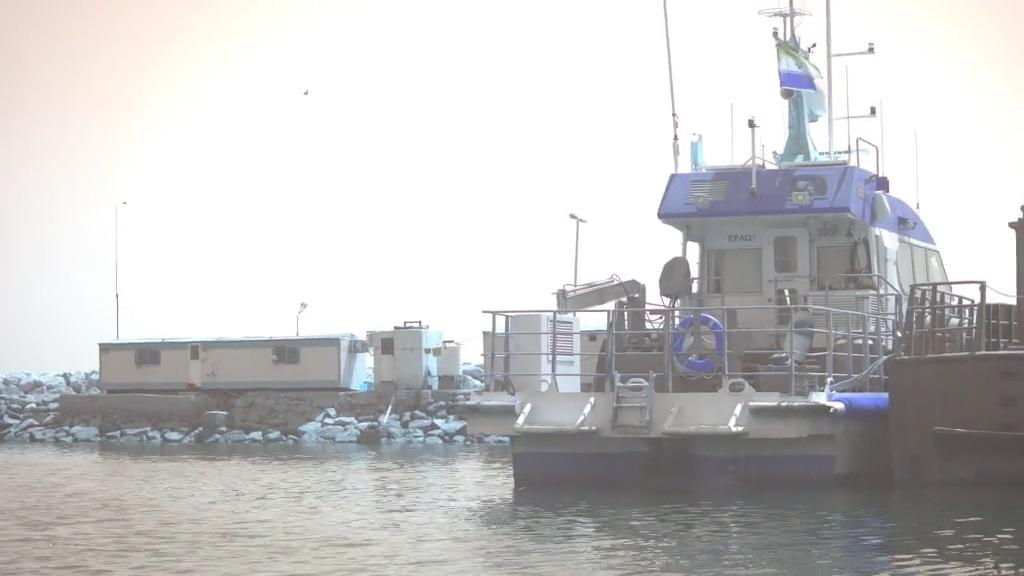PassengerShip: (502, 42, 968, 492)
